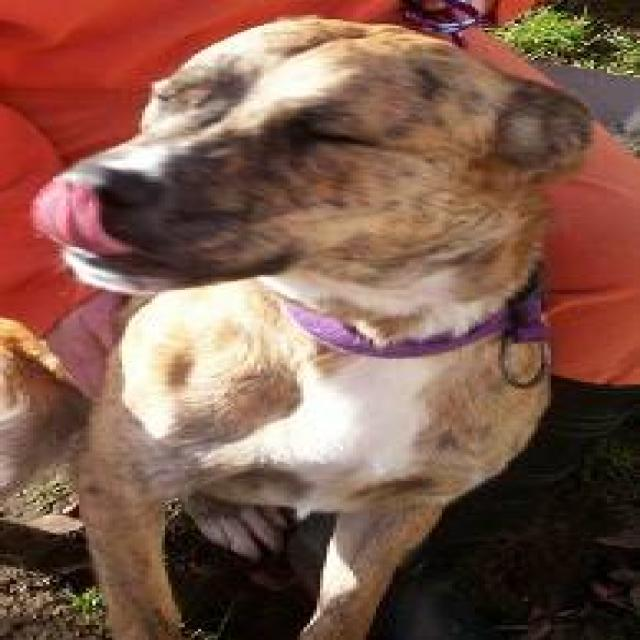Dog: (22, 11, 613, 306)
